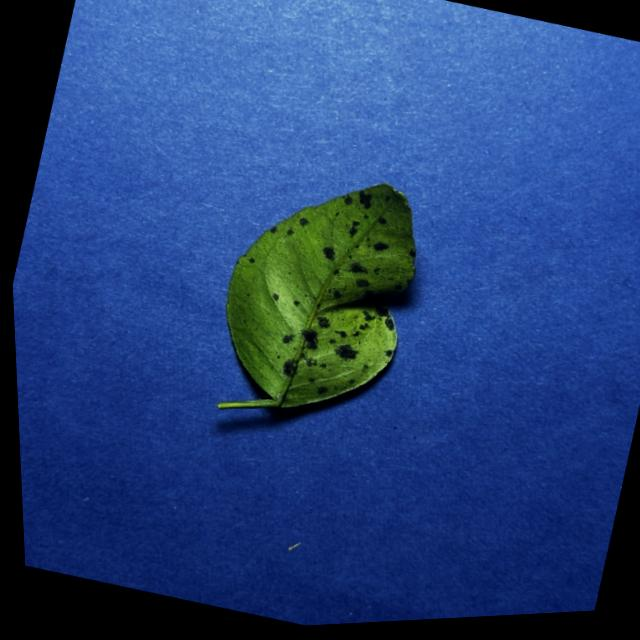sooty_mold: (218, 183, 414, 407)
